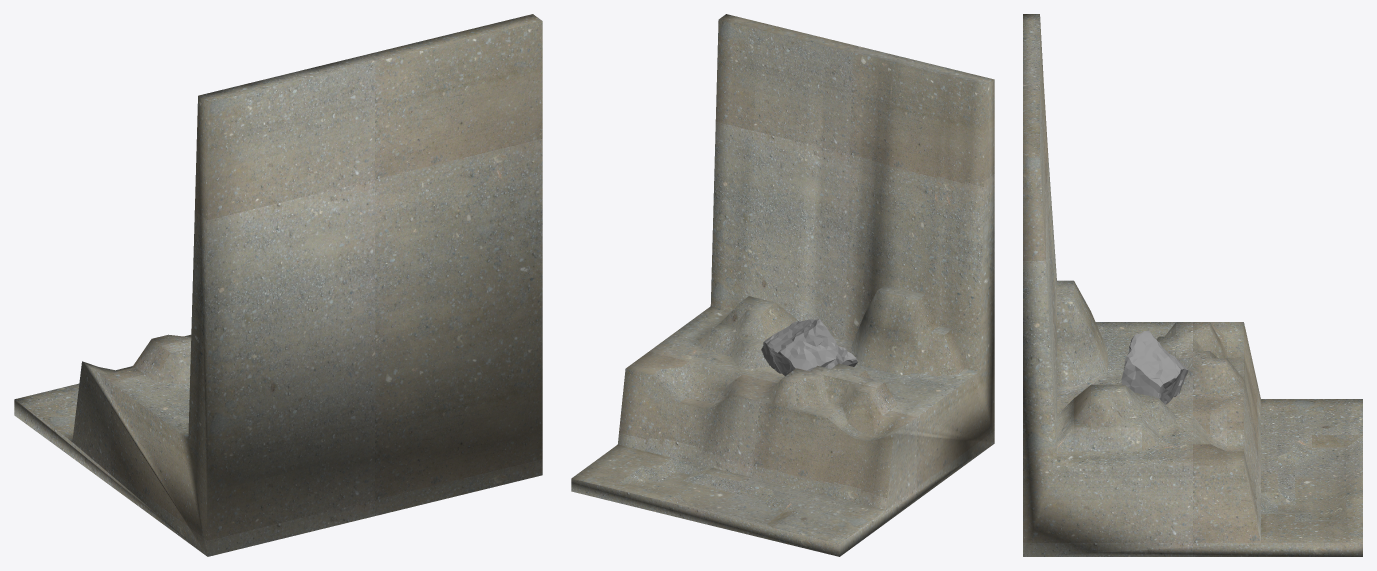
The model's file is left4.fbx.
3 views of the same model, side by side, from view 1: azimuth 30°, elevation 25°; view 2: azimuth 150°, elevation 25°; view 3: azimuth 270°, elevation 25° (orthographic). The views are drawn at different scales.
Parts seen in each view (by area): view 1: Model; view 2: Model, skp59B9_1; view 3: Model, skp59B9_1.
Part boxes in pixels (x1,y1,x2,y2): Model: (14, 14, 542, 556); Model: (571, 14, 994, 556); skp59B9_1: (761, 318, 857, 375); Model: (1023, 14, 1362, 556); skp59B9_1: (1121, 330, 1188, 404).
Size of the model in its own units: 1000 by 1296 by 1000.
